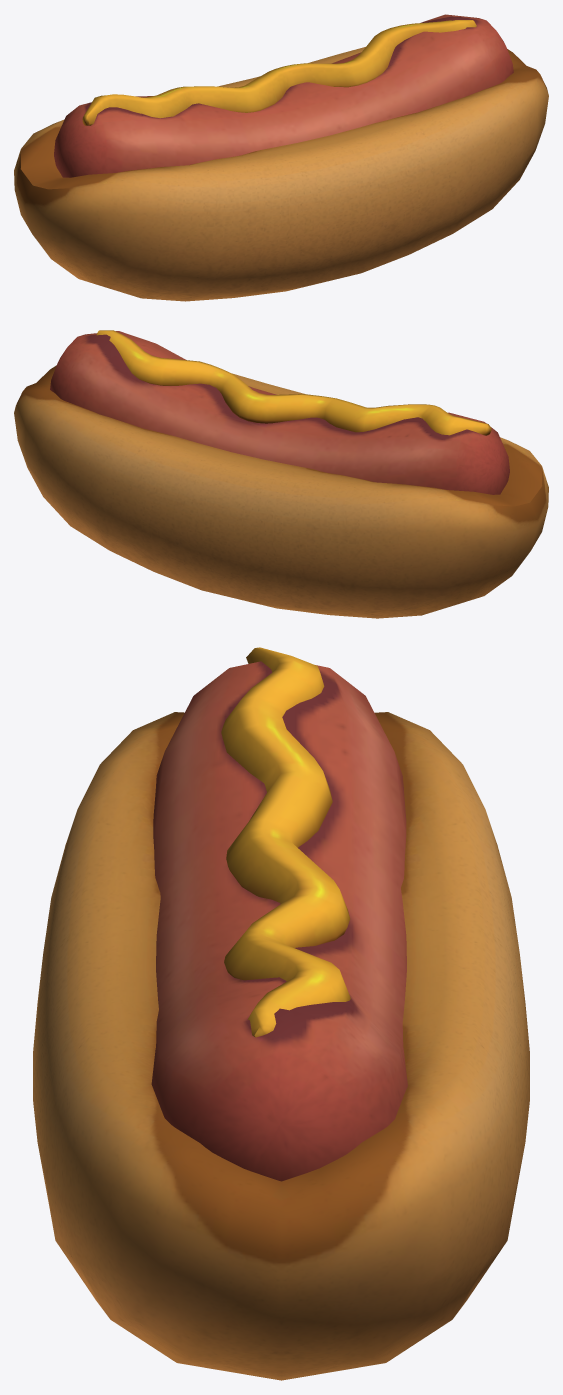
File: hotdog.fbx
3 views of the same model, one above another, from view 1: azimuth 30°, elevation 25°; view 2: azimuth 150°, elevation 25°; view 3: azimuth 270°, elevation 25° (orthographic). The views are drawn at different scales.
Visible parts, largest first — view 1: hotdog; view 2: hotdog; view 3: hotdog.
Part boxes in pixels (box(x1,y1,x2,y2)): hotdog: box(14, 14, 548, 301); hotdog: box(14, 330, 548, 618); hotdog: box(33, 647, 529, 1380).
Size of the model in its own units: 95.71 by 38.2 by 40.17.
